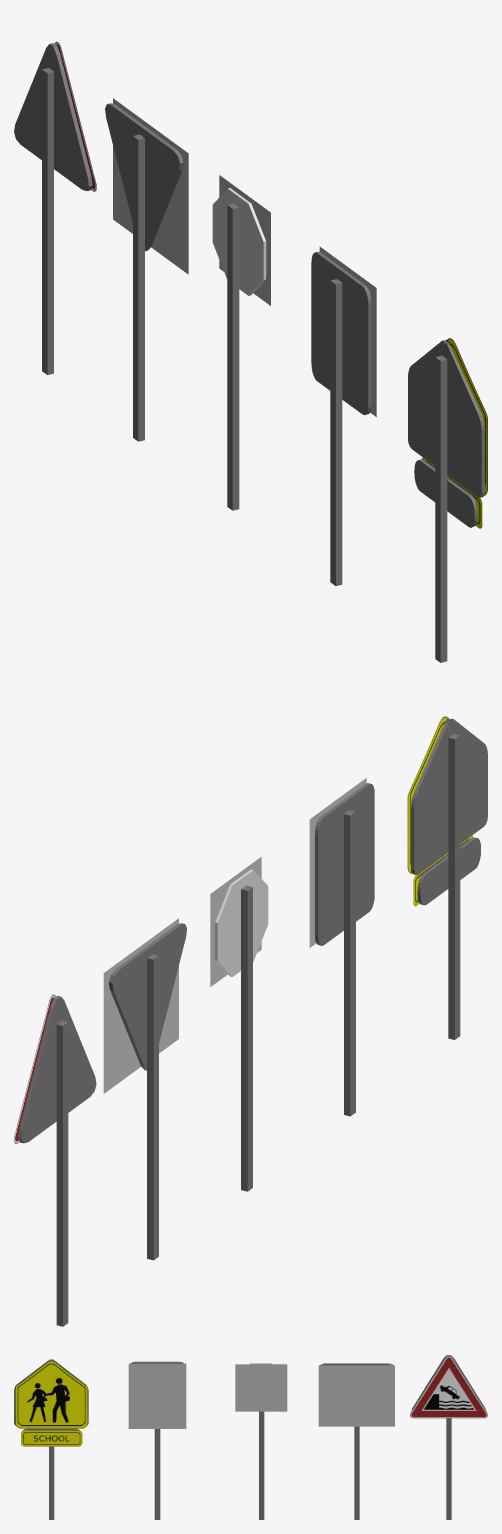
File: Road Signs.fbx
The picture shows the model from 3 angles, top to bottom: view 1: azimuth 30°, elevation 25°; view 2: azimuth 150°, elevation 25°; view 3: azimuth 270°, elevation 25°; orthographic projection. The views are drawn at different scales.
Parts seen in each view (by area): view 1: Cube, Cube.003, Cube.002, Cube.001, Circle; view 2: Cube, Cube.003, Cube.002, Cube.001, Circle; view 3: Cube, Cube.003, Cube.002, Cube.001, Circle.
Boxes of the visible parts, x1=… form: Cube: x1=408, y1=338, x2=487, y2=662; Cube.003: x1=105, y1=98, x2=188, y2=441; Cube.002: x1=311, y1=246, x2=376, y2=585; Cube.001: x1=14, y1=41, x2=96, y2=374; Circle: x1=212, y1=175, x2=270, y2=510; Cube: x1=407, y1=716, x2=487, y2=1039; Cube.003: x1=103, y1=918, x2=186, y2=1260; Cube.002: x1=309, y1=778, x2=374, y2=1116; Cube.001: x1=14, y1=994, x2=96, y2=1326; Circle: x1=210, y1=857, x2=268, y2=1191; Cube: x1=14, y1=1359, x2=88, y2=1519; Cube.003: x1=318, y1=1363, x2=394, y2=1519; Cube.002: x1=128, y1=1361, x2=186, y2=1519; Cube.001: x1=410, y1=1355, x2=487, y2=1519; Circle: x1=235, y1=1363, x2=287, y2=1519.
Size of the model in its own units: 22.03 by 458 by 1187.
